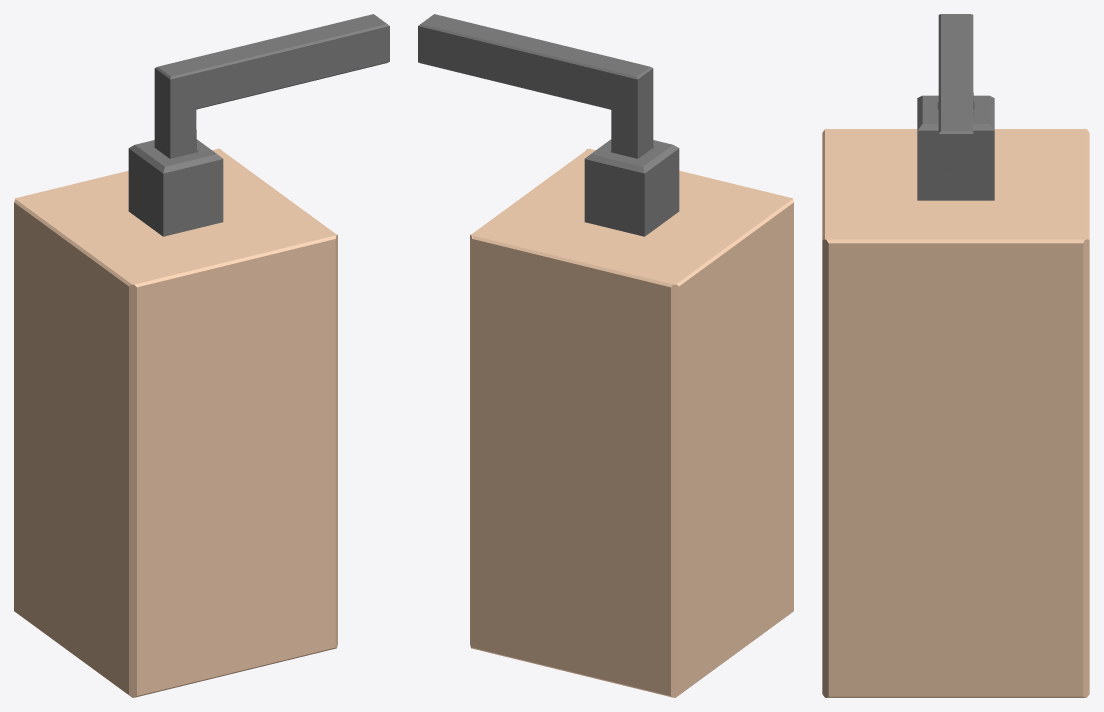
File: soap.glb
3 renders of one model, left to right at view 1: azimuth 30°, elevation 25°; view 2: azimuth 150°, elevation 25°; view 3: azimuth 270°, elevation 25°, orthographic. The views are drawn at different scales.
Parts seen in each view (by area): view 1: Cube, Cube.001; view 2: Cube, Cube.001; view 3: Cube, Cube.001.
Boxes of the visible parts, x1,y1,x2,y2 form: Cube: [14, 148, 337, 697]; Cube.001: [128, 14, 389, 236]; Cube: [470, 148, 793, 697]; Cube.001: [418, 14, 679, 236]; Cube: [822, 128, 1089, 697]; Cube.001: [917, 14, 994, 200].
Bounding box in the file's own units: 297 × 513 × 200.
